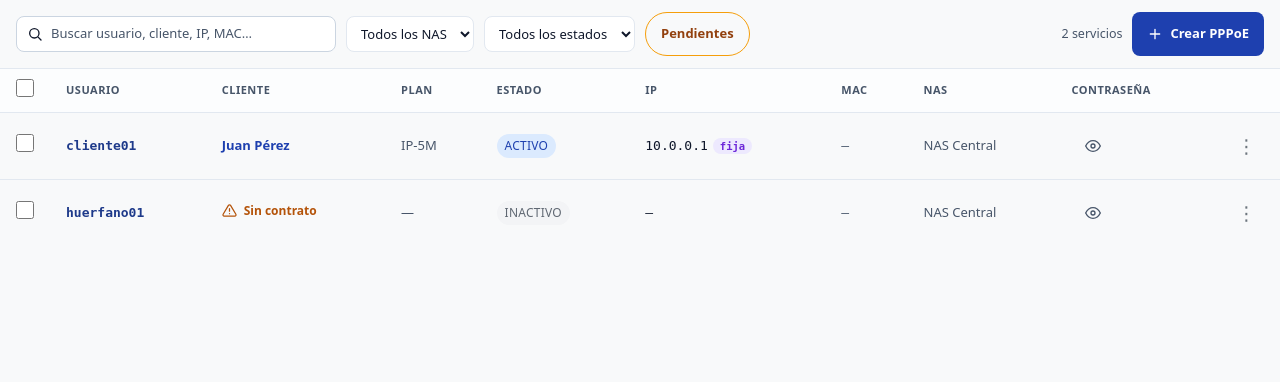
PppoeManagementTab — F2: ramas de error faltantes › muestra error banner visible cuando handleSuspend falla (kebab)
What coordinates should you click on to do the following:
click the button named "Acciones"
I would click on:
 (1246, 146)
Its box is [1229,132,1264,159].
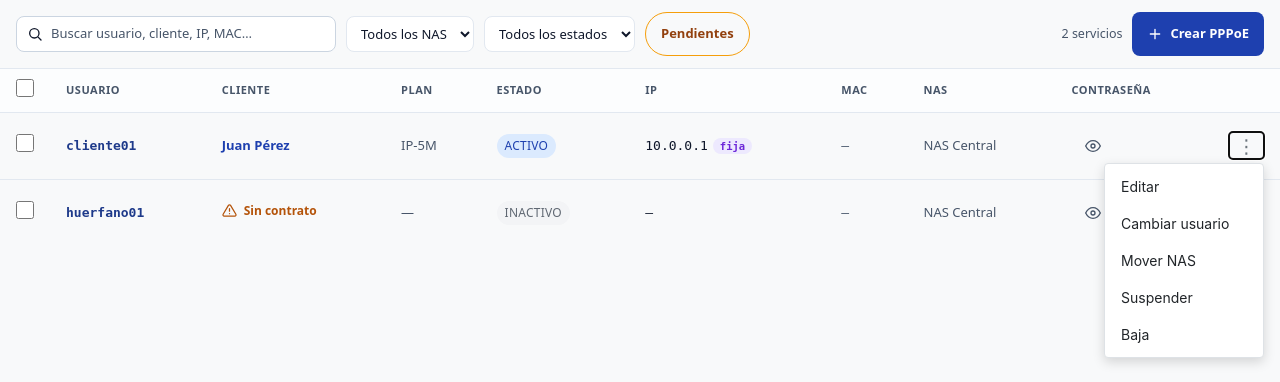
What coordinates should you click on to do the following:
click the menu item "Suspender"
I would click on:
 (1184, 298)
Its box is [1105,279,1263,316].
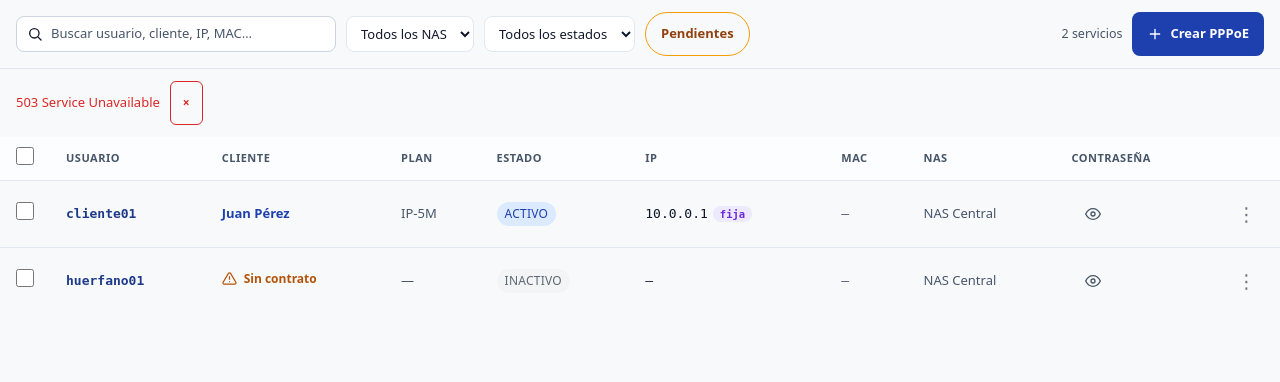
Expected: the message "503 Service Unavailable ×" is shown, [16,81,203,125]
